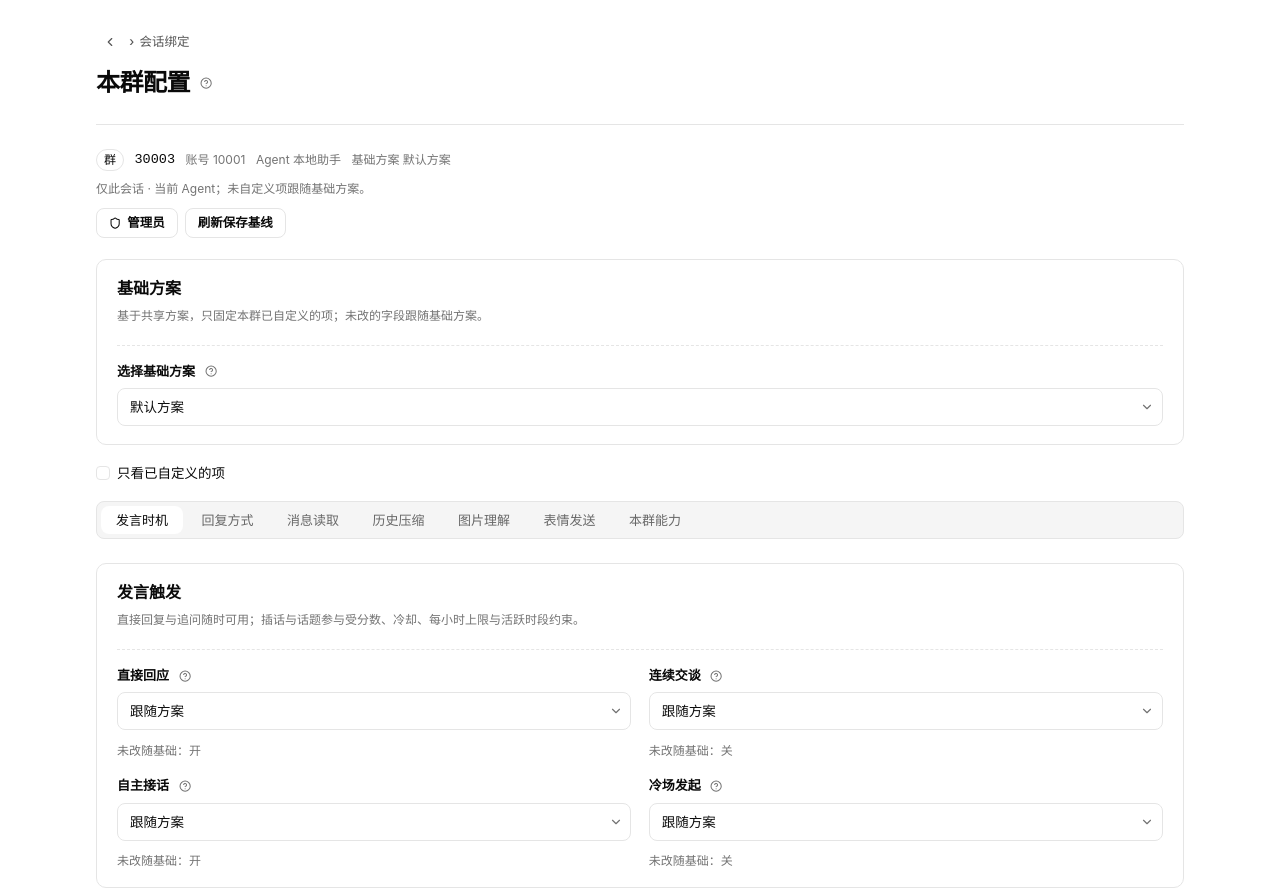
it: QQ Admin Navigation & Integration › spies scrollIntoView directly targeting administrators section from group config header
Click the button "管理员": click(137, 223) [96,208,178,238]
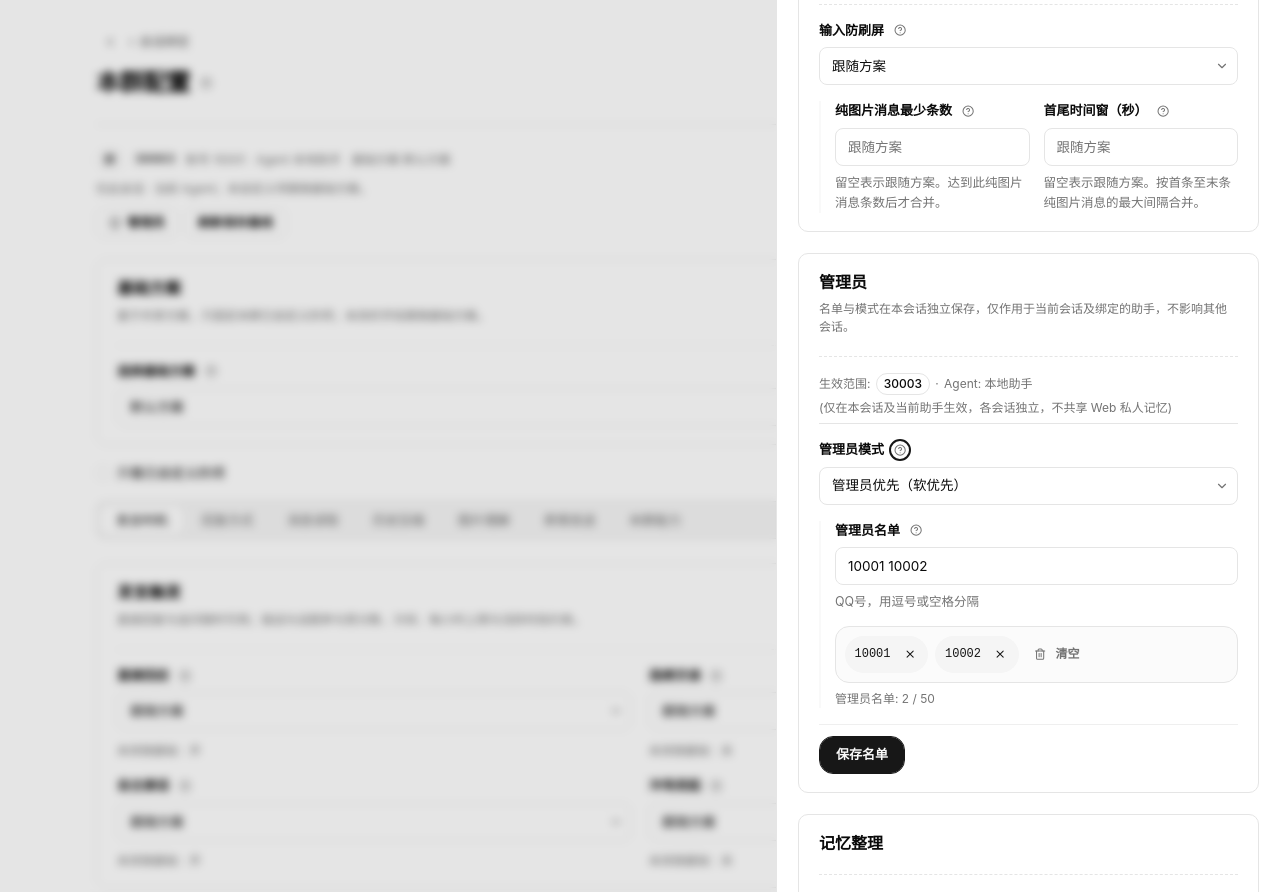
Expected: the element that starts with "管理员" is shown, [798,253,1259,793]
